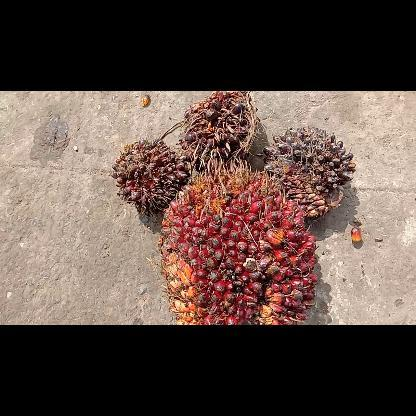TBS abnormal: (262, 124, 356, 220), (178, 91, 262, 169), (110, 136, 188, 216)
TBS masak: (155, 160, 321, 324)
